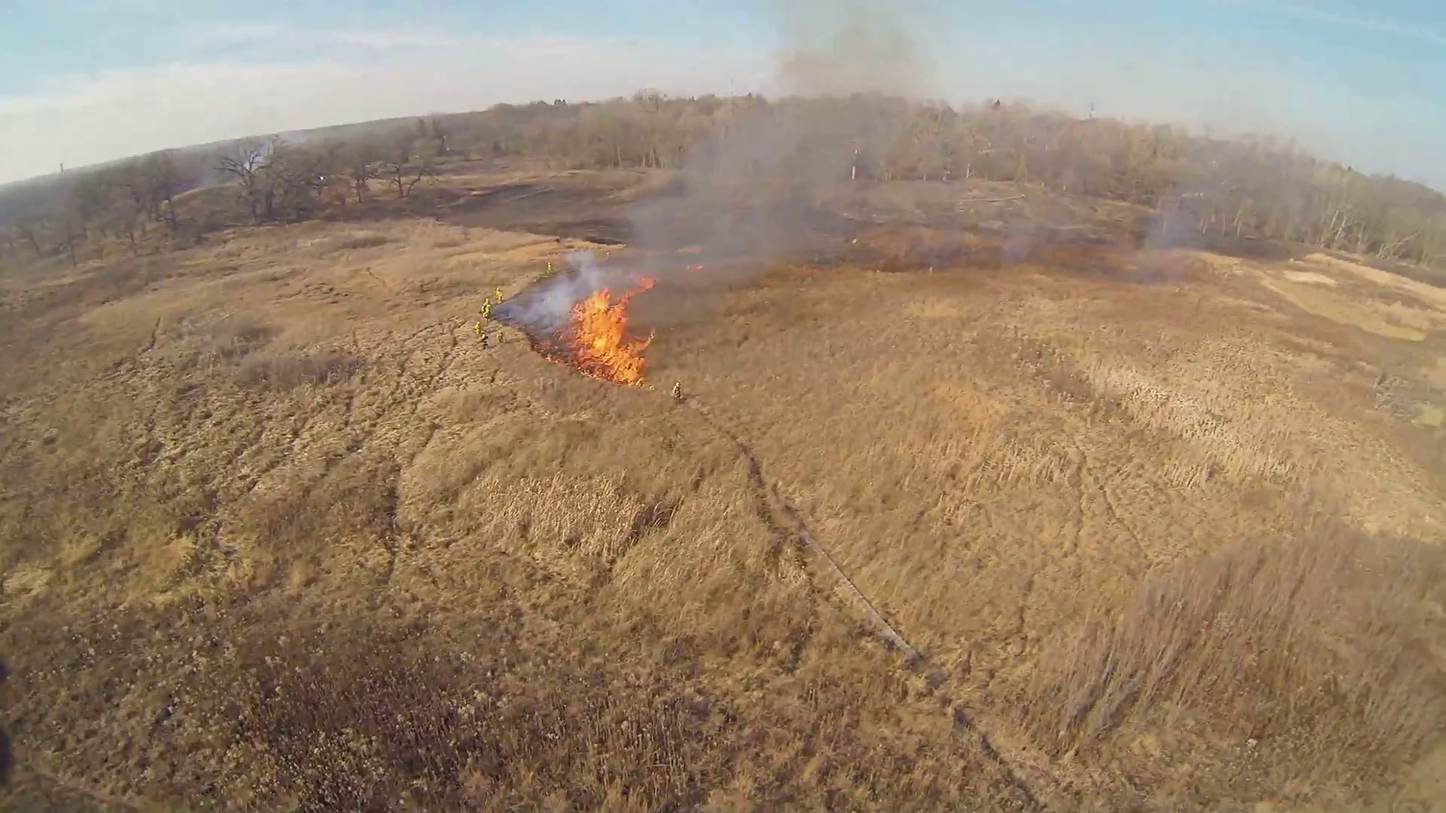forest_fire: (559, 280, 652, 384)
